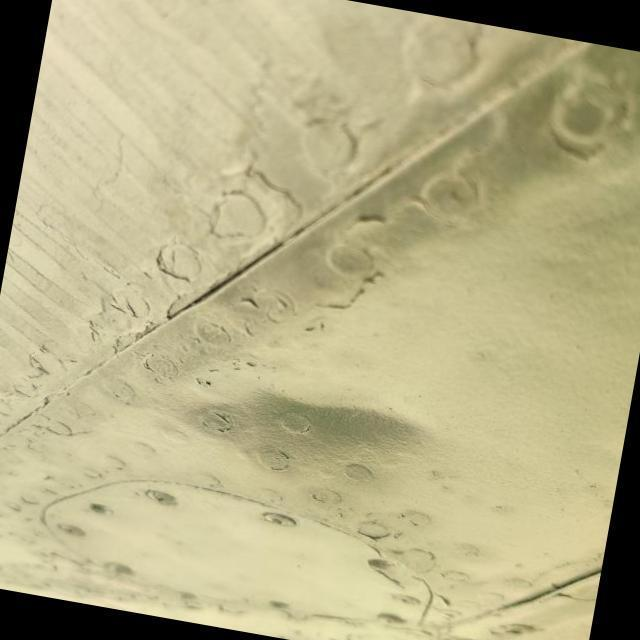Dent: (179, 330, 476, 538)
